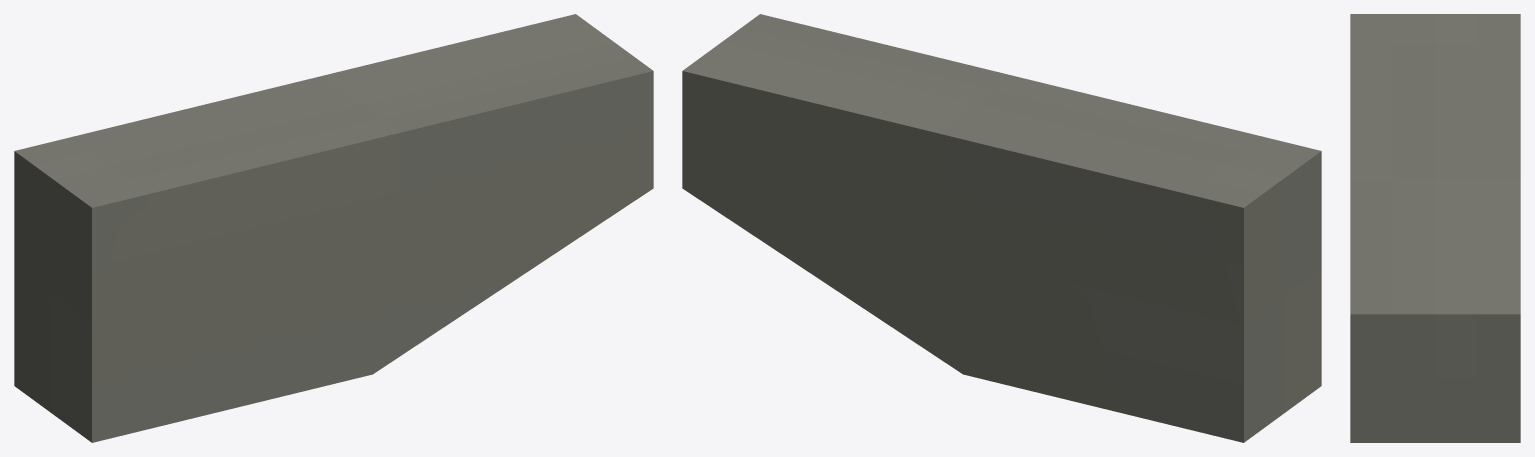
Rendered from ex_bredge_mr.obj.
The picture shows the model from 3 angles, left to right: view 1: azimuth 30°, elevation 25°; view 2: azimuth 150°, elevation 25°; view 3: azimuth 270°, elevation 25°; orthographic projection. The views are drawn at different scales.
Parts seen in each view (by area): view 1: bridge_rightside_1_mirror; view 2: bridge_rightside_1_mirror; view 3: bridge_rightside_1_mirror.
Part boxes in pixels (<box>): bridge_rightside_1_mirror: <box>14,14,653,442</box>; bridge_rightside_1_mirror: <box>682,14,1321,442</box>; bridge_rightside_1_mirror: <box>1350,14,1520,442</box>.
Size of the model in its own units: 2.5 by 1 by 0.6.
1 material, 1 textured.
